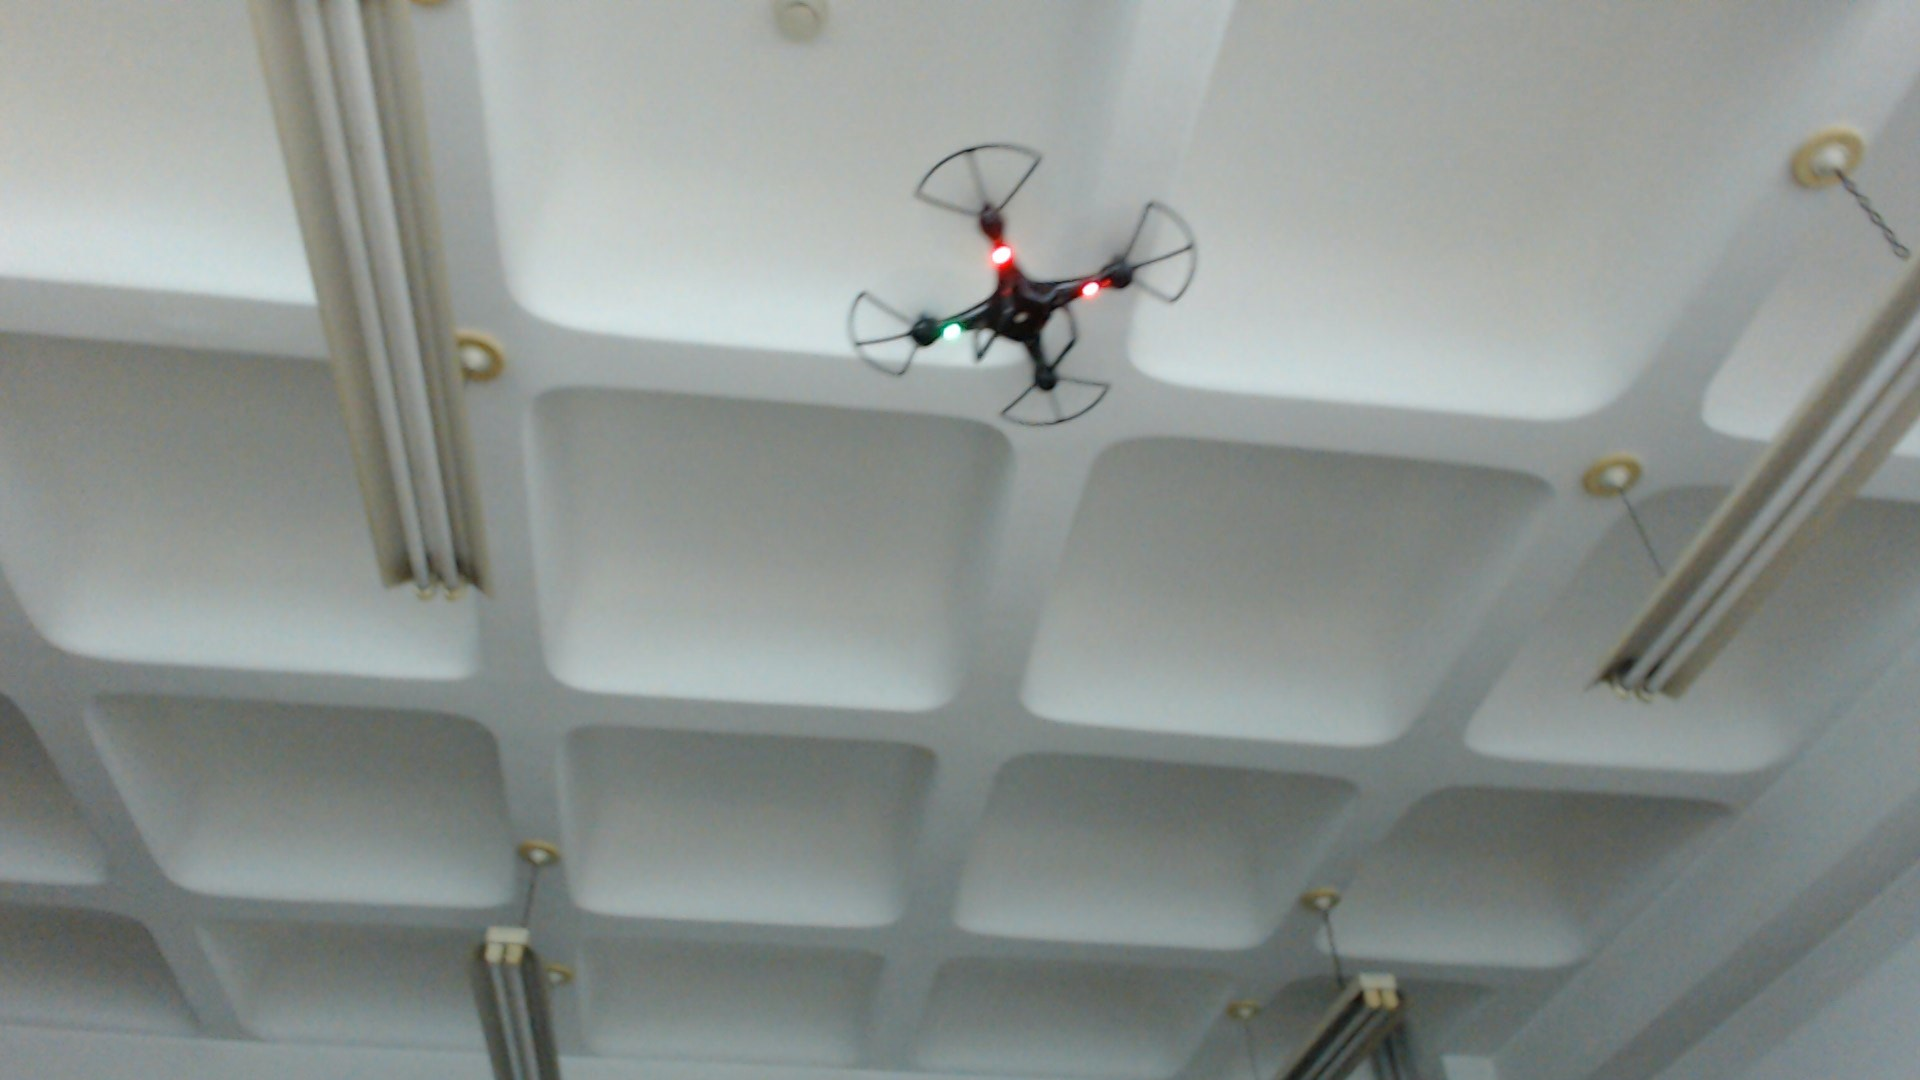test_drone: (849, 141, 1203, 431)
